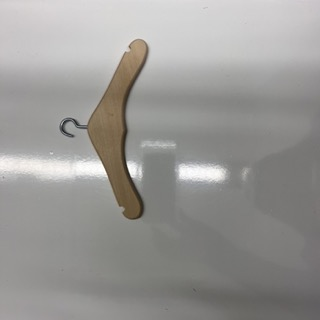rack: (60, 39, 148, 221)
